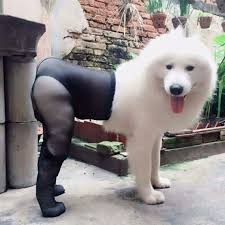dog: (140, 27, 216, 123)
